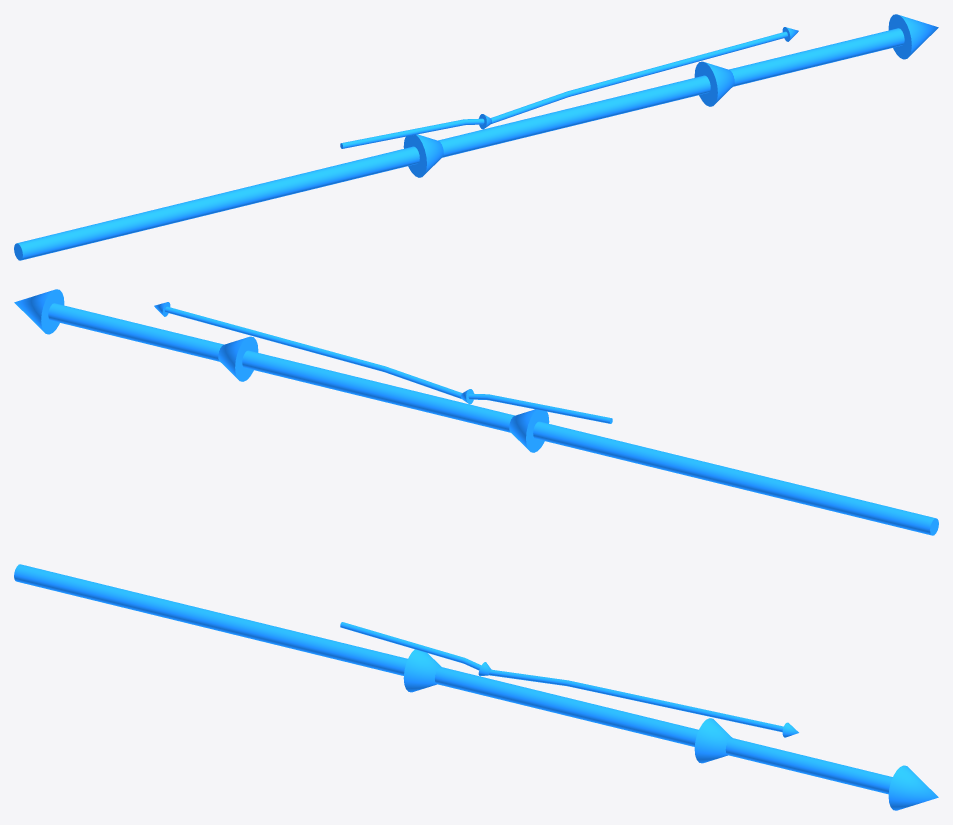
The model's file is orifice_plate_flow.glb.
3 renders of one model, top to bottom at view 1: azimuth 30°, elevation 25°; view 2: azimuth 150°, elevation 25°; view 3: azimuth 330°, elevation 25°, orthographic.
Parts seen in each view (by area): view 1: flow, jet_edge; view 2: flow, jet_edge; view 3: flow, jet_edge.
Boxes of the visible parts, left/top/right/bottom form: flow: left=14, top=14, right=938, bottom=260; jet_edge: left=340, top=27, right=798, bottom=148; flow: left=14, top=289, right=938, bottom=535; jet_edge: left=154, top=302, right=612, bottom=423; flow: left=14, top=564, right=938, bottom=810; jet_edge: left=340, top=622, right=798, bottom=737.
Bounding box in the file's own units: 1.42 × 0.0863 × 0.0624.
